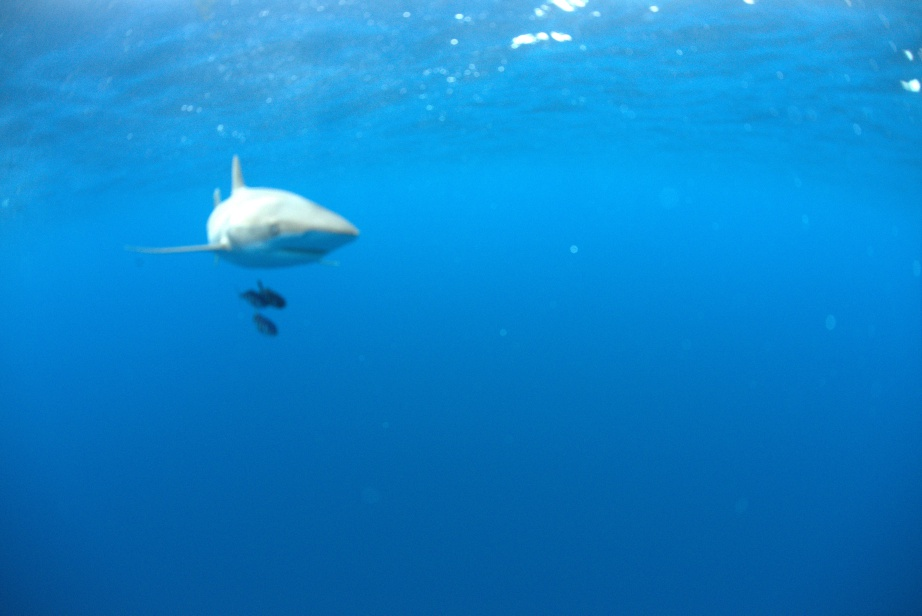Sedoso: (101, 145, 373, 277)
